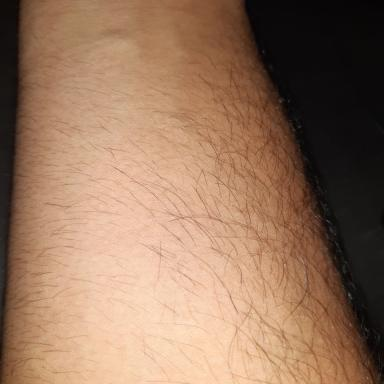normal skin: (2, 0, 372, 384)
